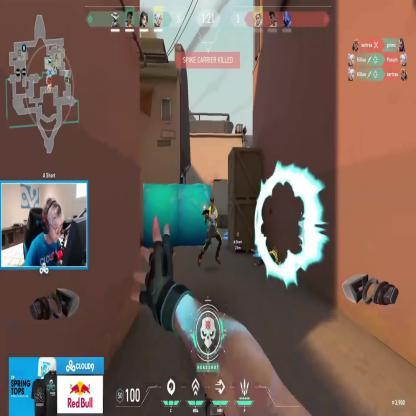enemy: (198, 195, 222, 268)
enemy_head: (209, 197, 214, 209)
